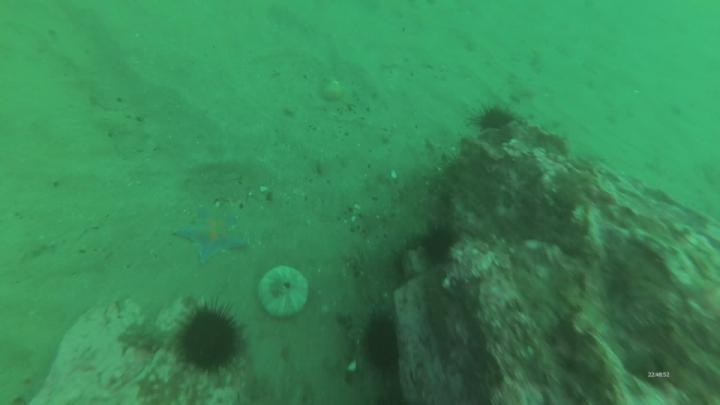echinus: (172, 303, 251, 381), (354, 313, 406, 375), (417, 216, 462, 269), (469, 98, 522, 136)
starfish: (171, 203, 255, 266)
